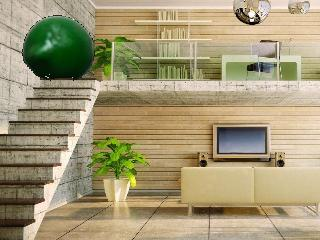lime: (21, 12, 98, 82)
